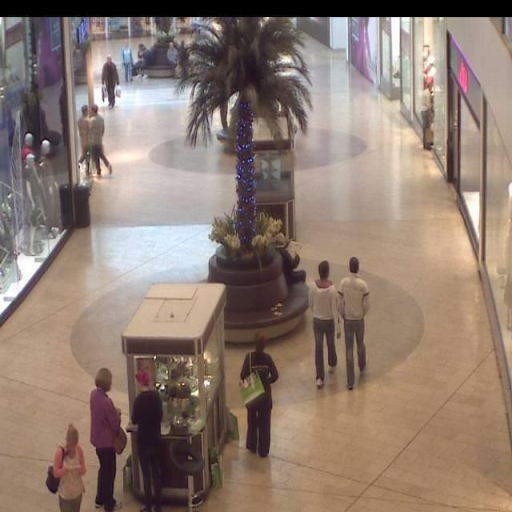person: (127, 370, 166, 512), (238, 334, 279, 453), (89, 368, 122, 508), (340, 256, 374, 387), (311, 260, 338, 388), (50, 426, 86, 512), (90, 103, 111, 177), (101, 56, 123, 110), (119, 39, 133, 82), (165, 41, 180, 78), (135, 41, 147, 78)
